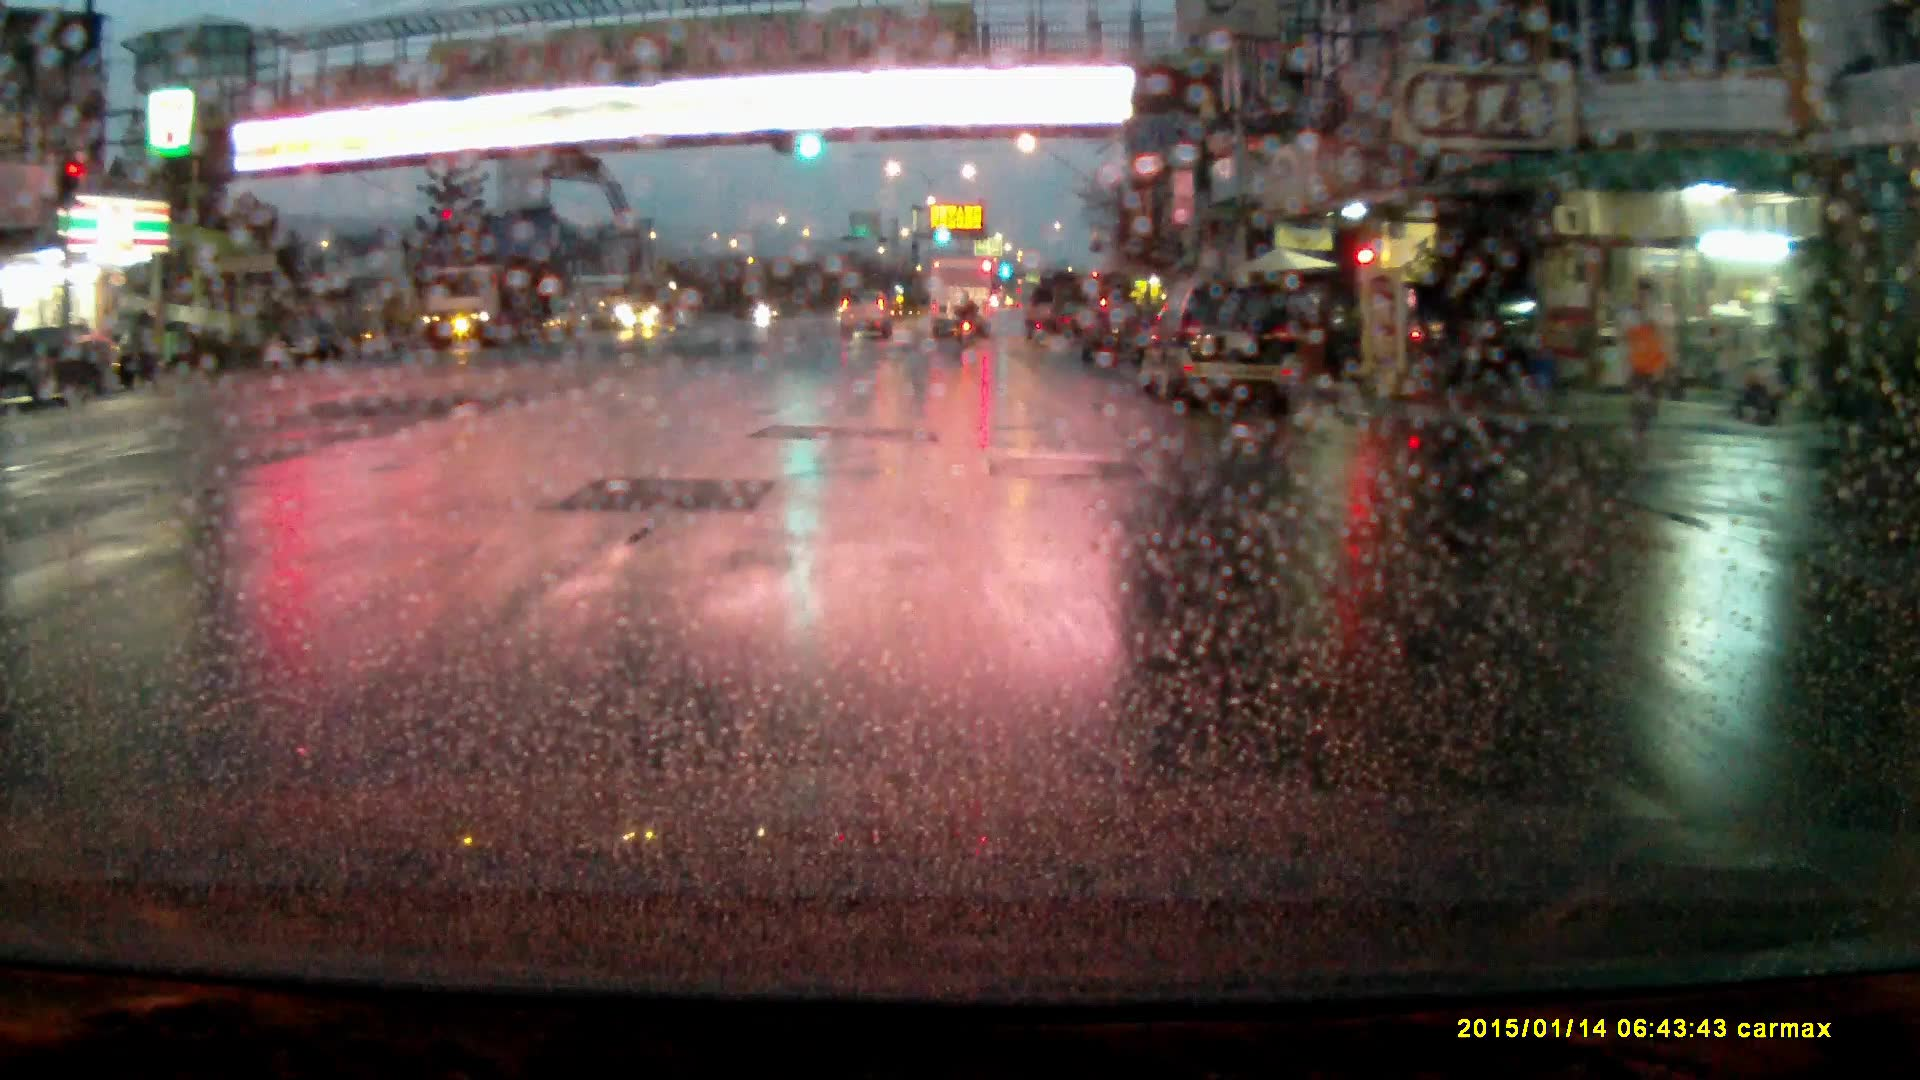pedestrian: (1606, 268, 1679, 458)
rider: (953, 292, 979, 352)
vehicle: (1142, 289, 1299, 408), (1410, 284, 1540, 384), (1, 325, 138, 414), (419, 264, 540, 358), (1079, 310, 1157, 368), (930, 262, 990, 336), (618, 285, 688, 335), (841, 294, 894, 343)
